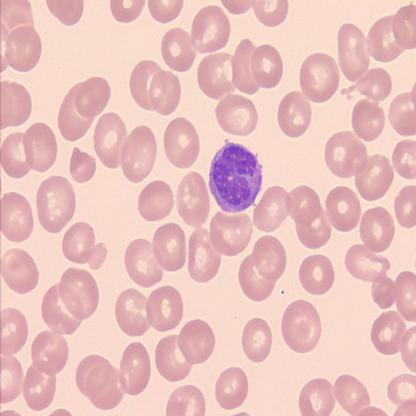Monocyte: (207, 136, 264, 215)
